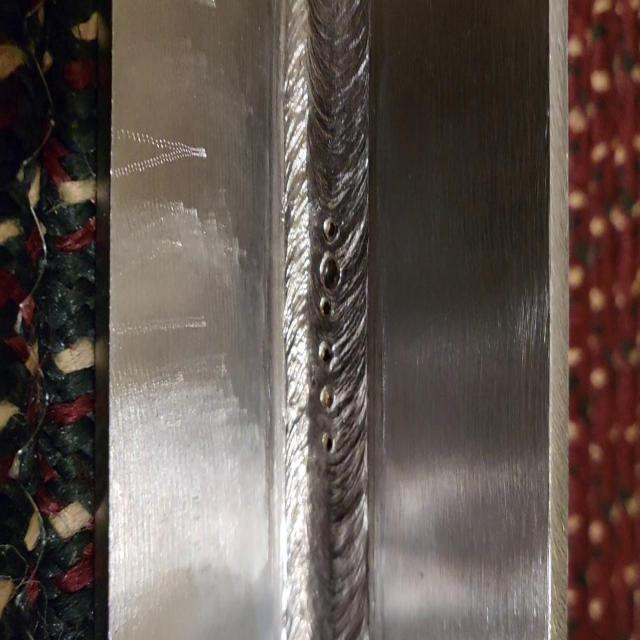Welding Line: (279, 2, 373, 640)
Workpiece: (113, 12, 554, 640)
porosity: (319, 217, 340, 451)
